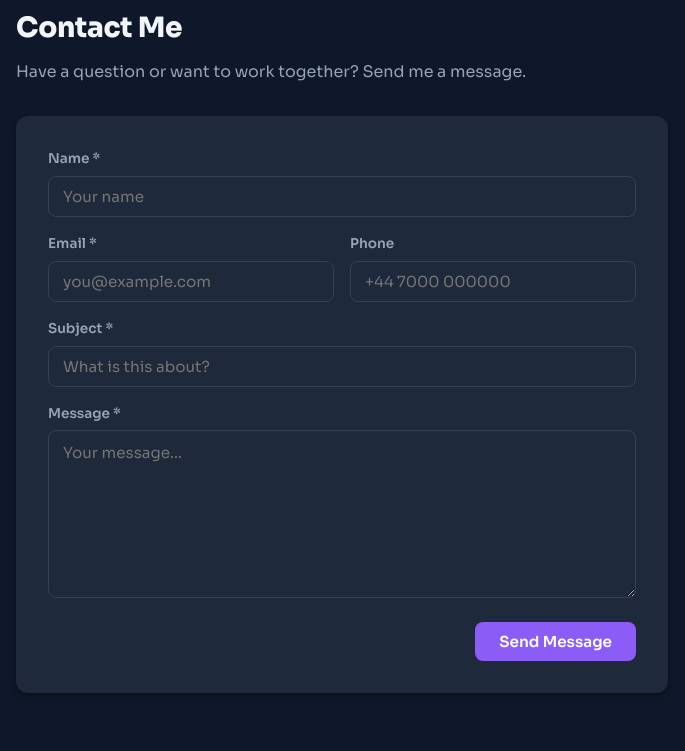
Test: ContactForm › shows error message when submission fails
Type "Jane" into the field with placeholder "Your name" at coordinates (342, 197), box [48,176,636,217]
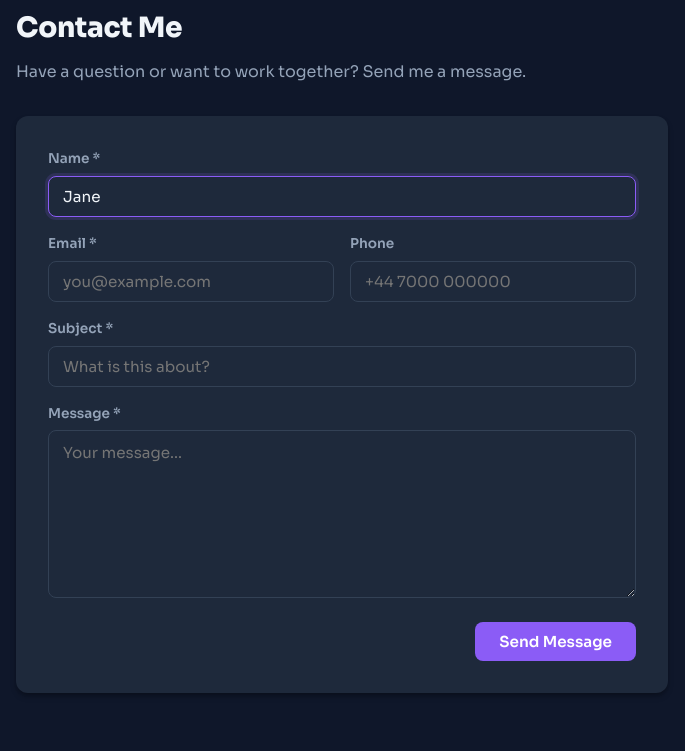
Type "j@e.com" into the field with placeholder "you@example.com" at coordinates (191, 281), box [48,261,334,302]
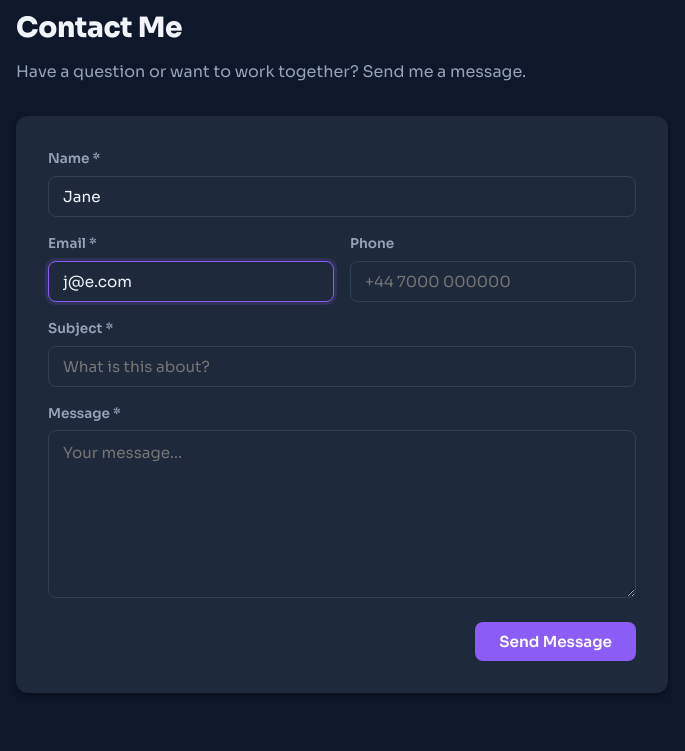
Type "Hi" into the field with placeholder "What is this about?" at coordinates (342, 366), box [48,346,636,387]
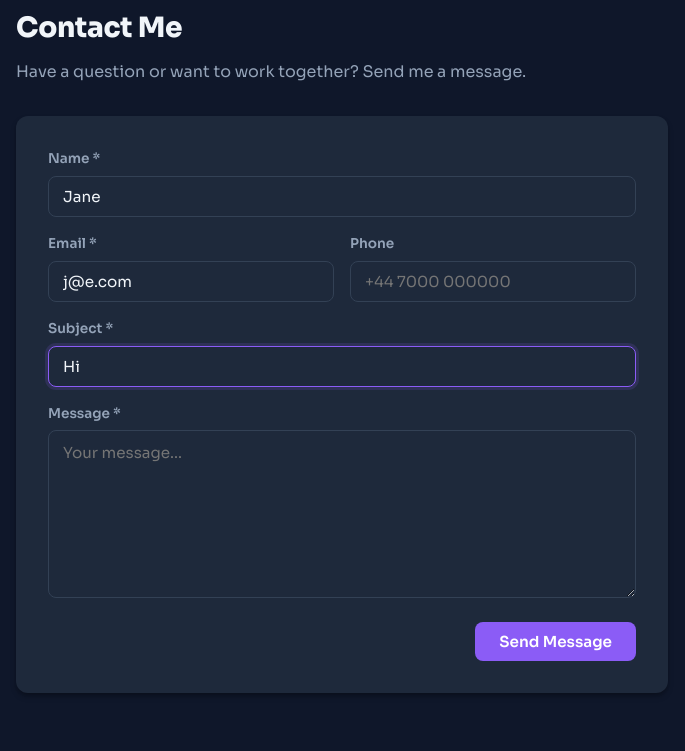
Type "msg" into the text box with placeholder "Your message..." at coordinates (342, 514), box [48,430,636,598]
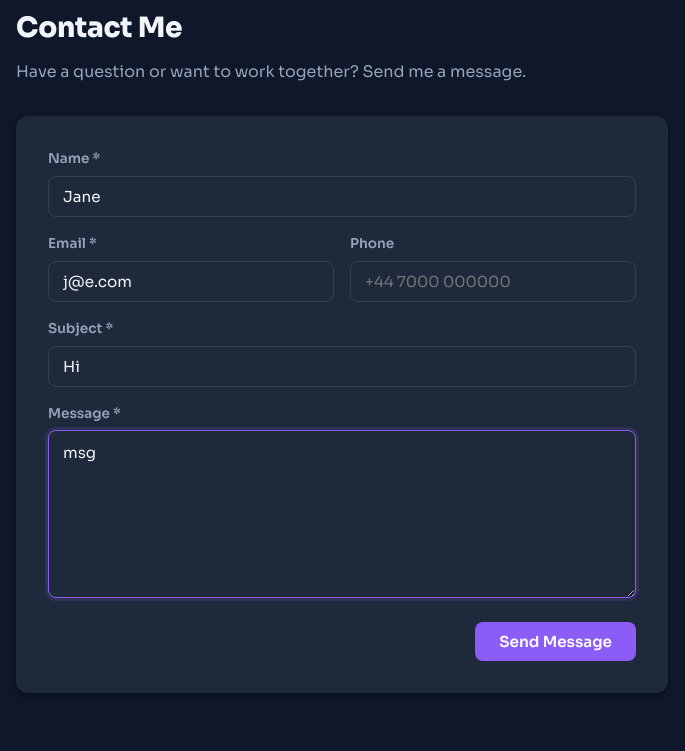
Click the button "Send Message" at coordinates (556, 642), box [475,622,636,661]
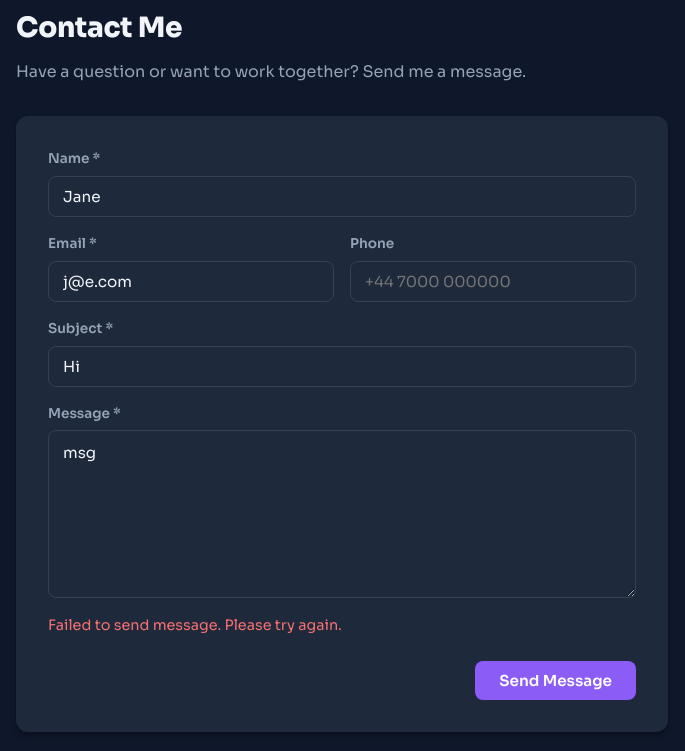
Expected: the text "Failed to send message. Please try again." is shown, [48,616,342,634]
